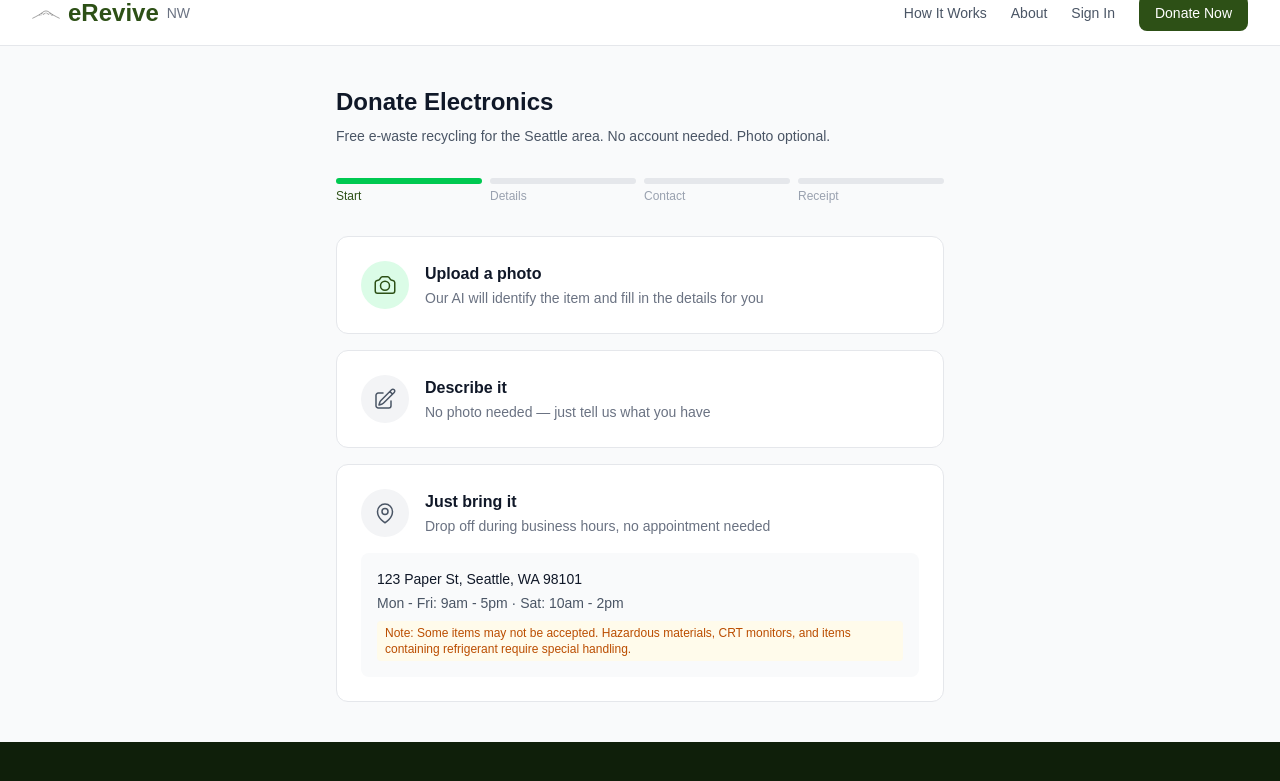
Test case: Donate Page (/donate) › can select and deselect items
Click the heading "Describe it" at (466,388), box [425,379,507,396]
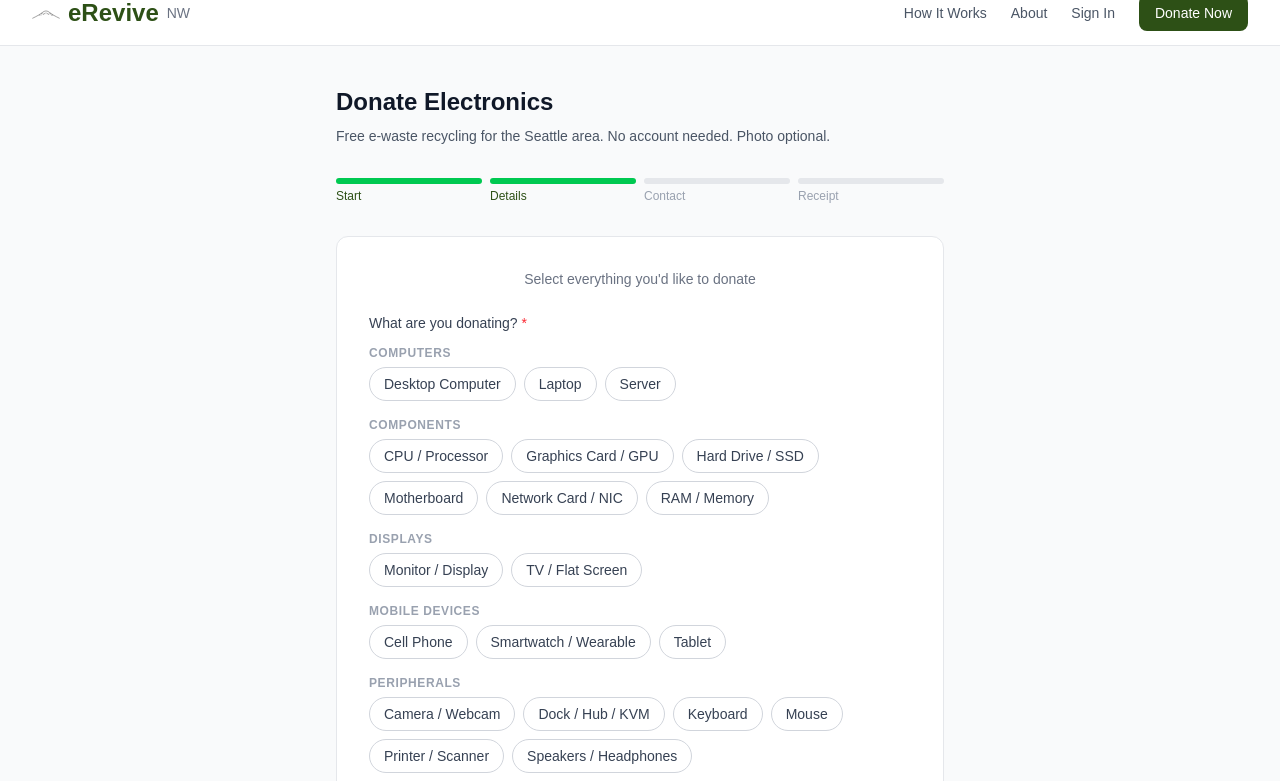
Expected: the text "What are you donating?" is shown, [369,315,522,331]
# Items appear as buttons — use getAllByText since "Server" and "Tablet" appear in multiple groups
Click the button "Laptop" at (560,384), box [524,367,596,401]
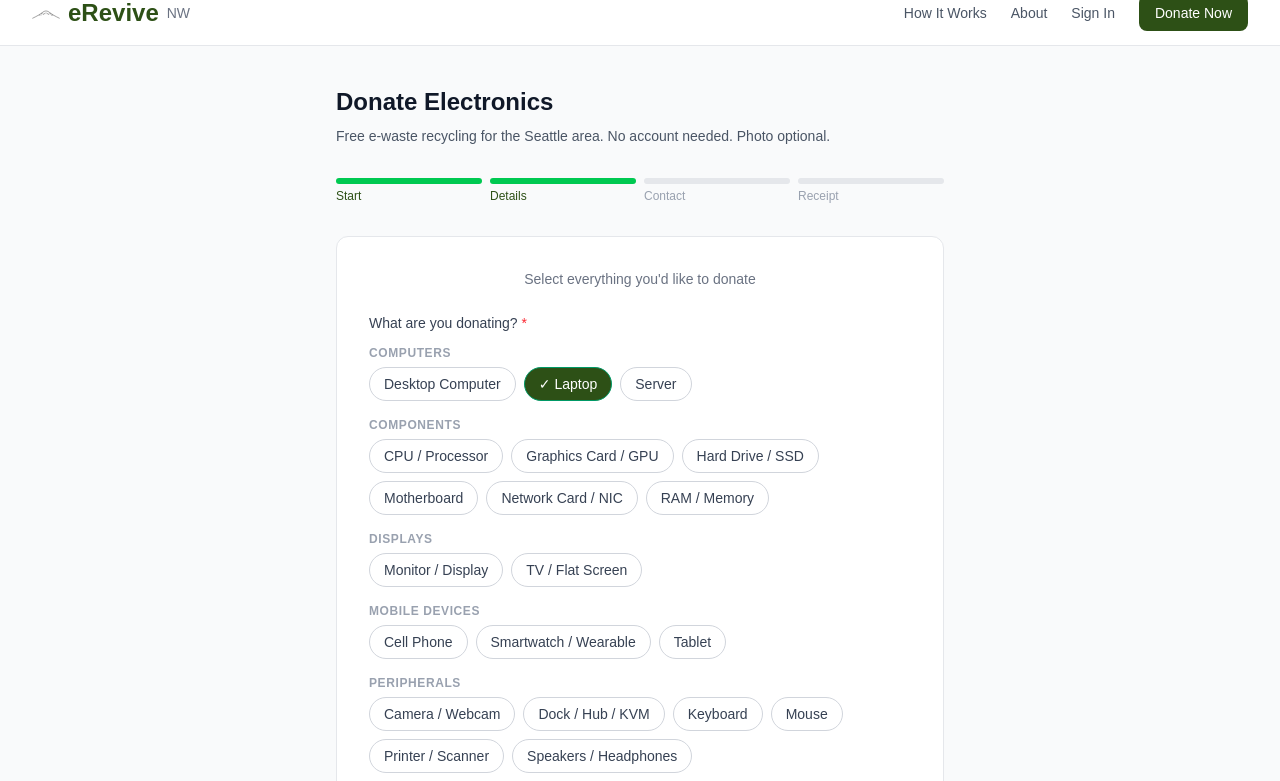
Click the button "Server" at (656,384), box [620,367,692,401]
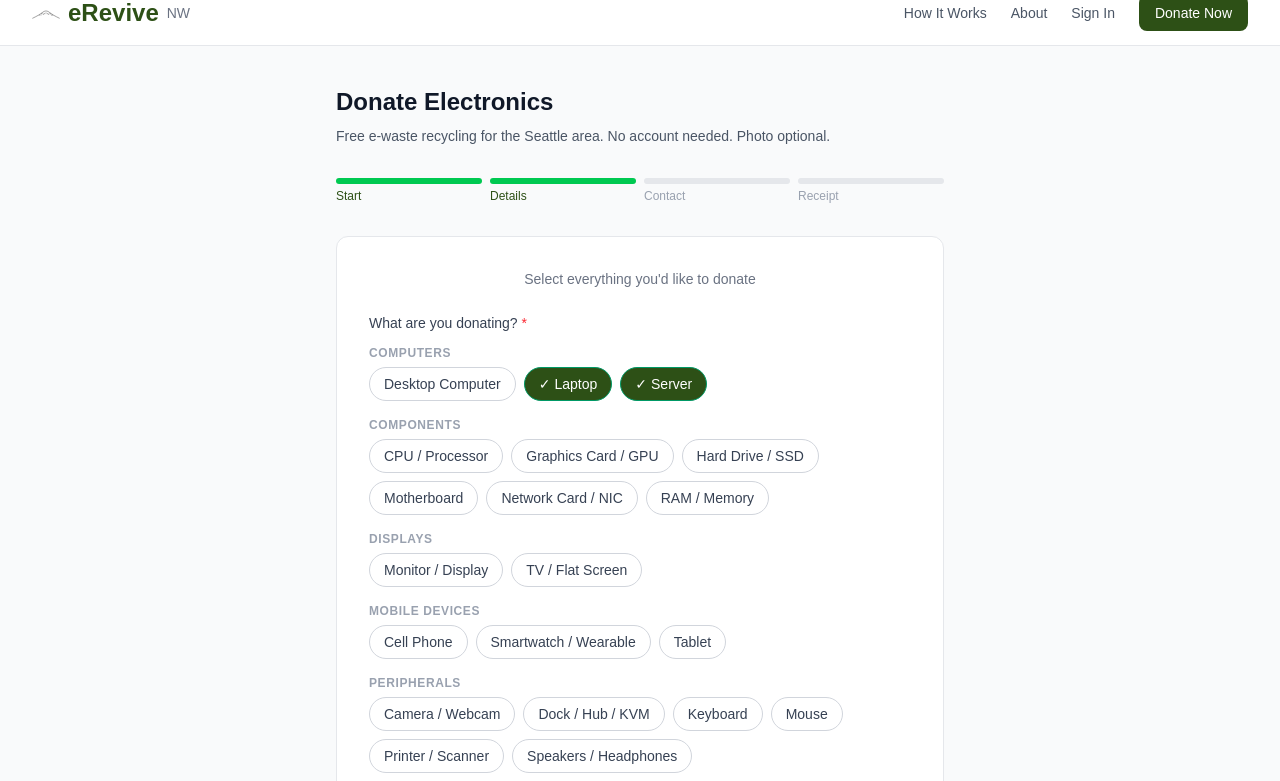
# Deselect — after selection text becomes "✓ Laptop"
Click the button "✓Laptop" at (568,384), box [524,367,612,401]
(page scrolled)
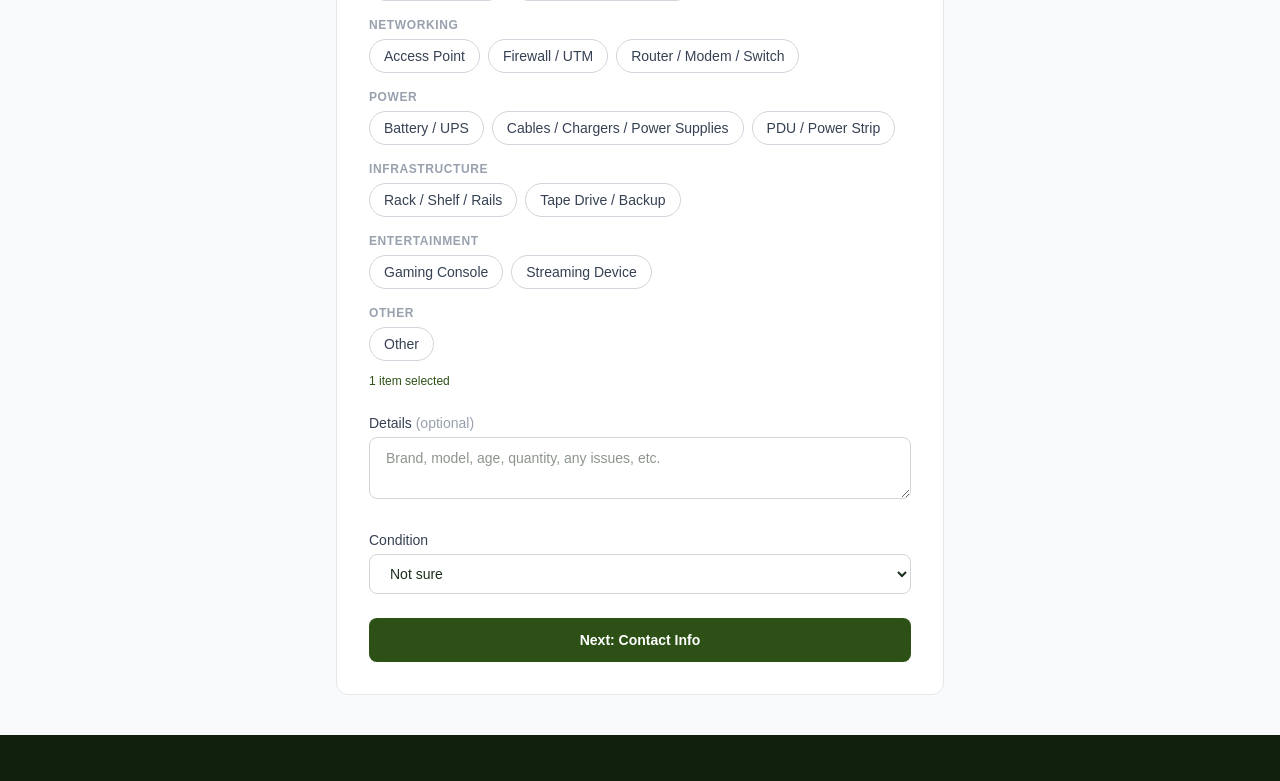
Expected: the text "1 item selected" is shown, [369,374,450,388]
